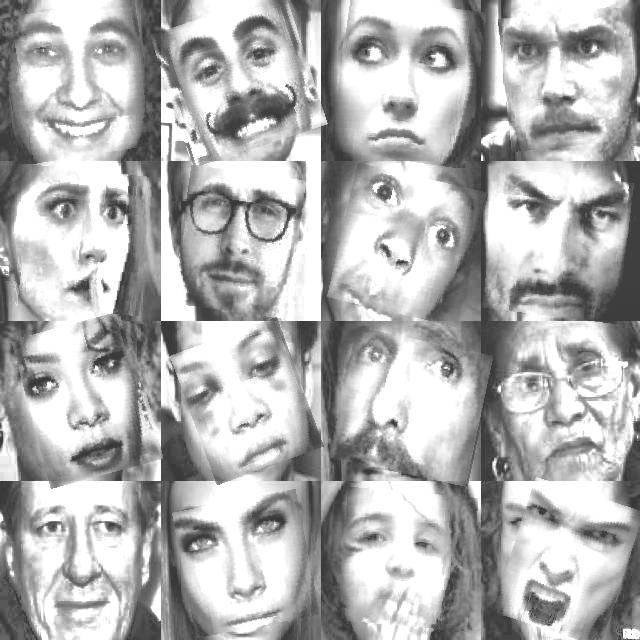angry: (486, 171, 630, 321), (502, 484, 634, 640), (22, 168, 150, 314), (502, 10, 622, 150)
fear: (180, 324, 314, 478)
happy: (159, 0, 318, 158), (3, 1, 151, 160), (339, 489, 476, 628)
neutral: (334, 0, 481, 164), (334, 169, 482, 321), (20, 317, 155, 483), (16, 487, 142, 636), (178, 495, 314, 633), (177, 168, 301, 316)
sad: (335, 334, 489, 481)
